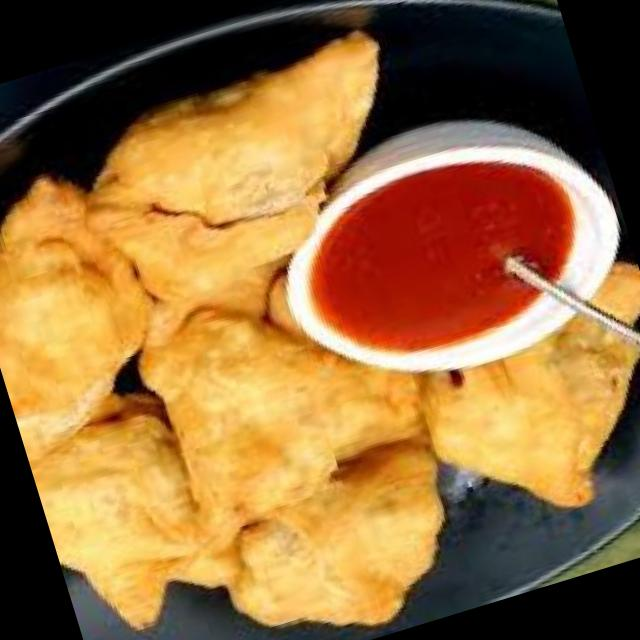samosa: (59, 27, 432, 320), (122, 236, 444, 562), (393, 256, 640, 543), (193, 431, 472, 640), (17, 378, 234, 640), (0, 157, 184, 465)
